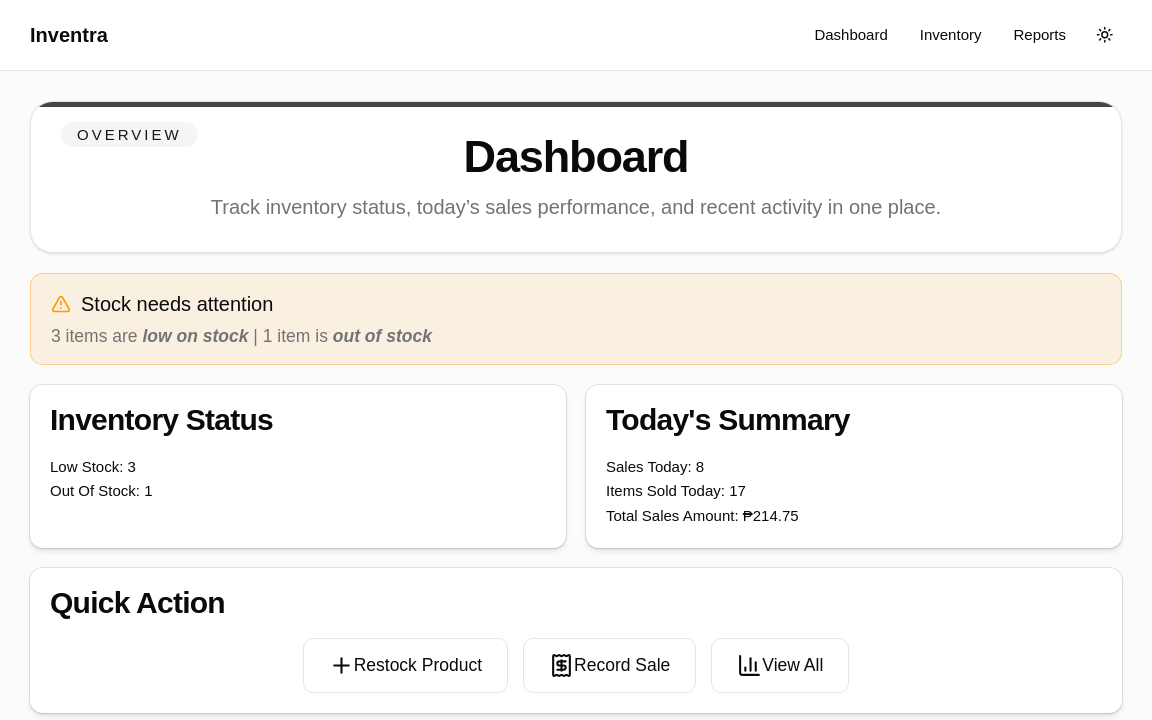
Test: Dashboard Page Tests › navigates to Stock Movement Create Page when restock product is clicked
The image size is (1152, 720).
Click the link "Restock Product" at (405, 666), box [329,653,482,678]
(page scrolled)
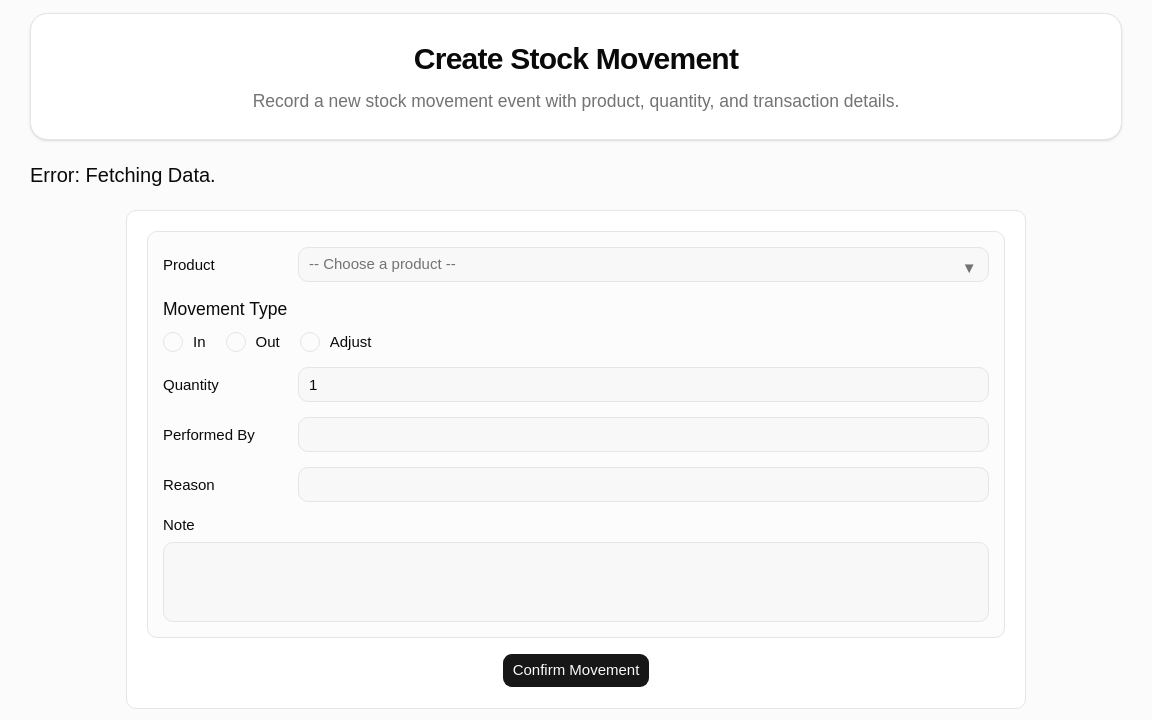
expect the element with test id "stock-movement-create-page" is shown: met
